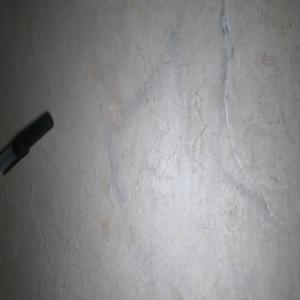Pen: (0, 111, 53, 175)
